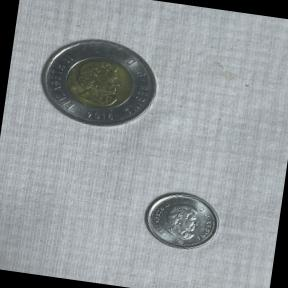coin: (27, 24, 169, 140), (132, 182, 227, 262)
